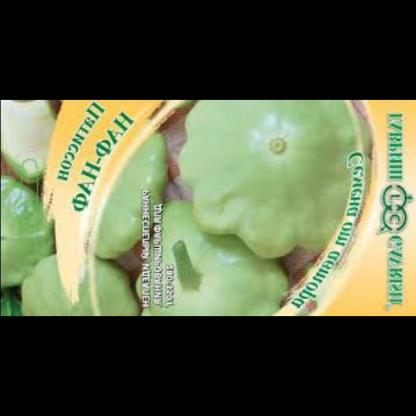squash-patisson: (173, 100, 366, 260), (125, 200, 294, 316), (15, 236, 138, 315), (85, 134, 159, 260), (0, 170, 59, 301)
